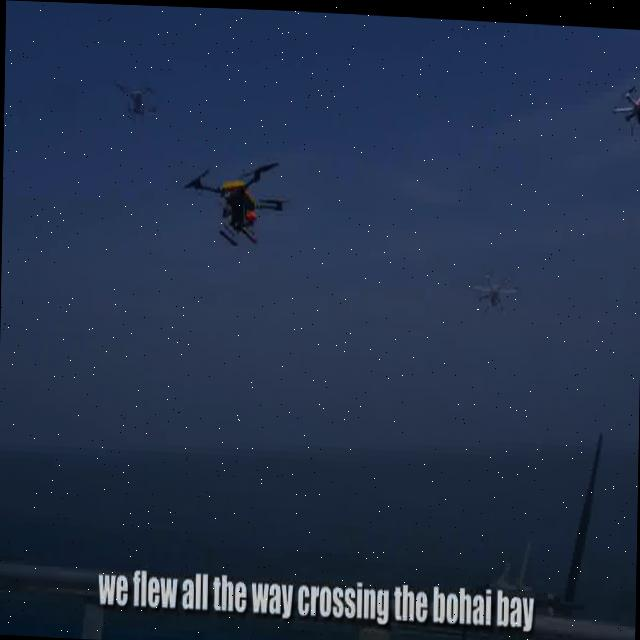drone: (184, 148, 288, 250), (112, 57, 160, 128)
